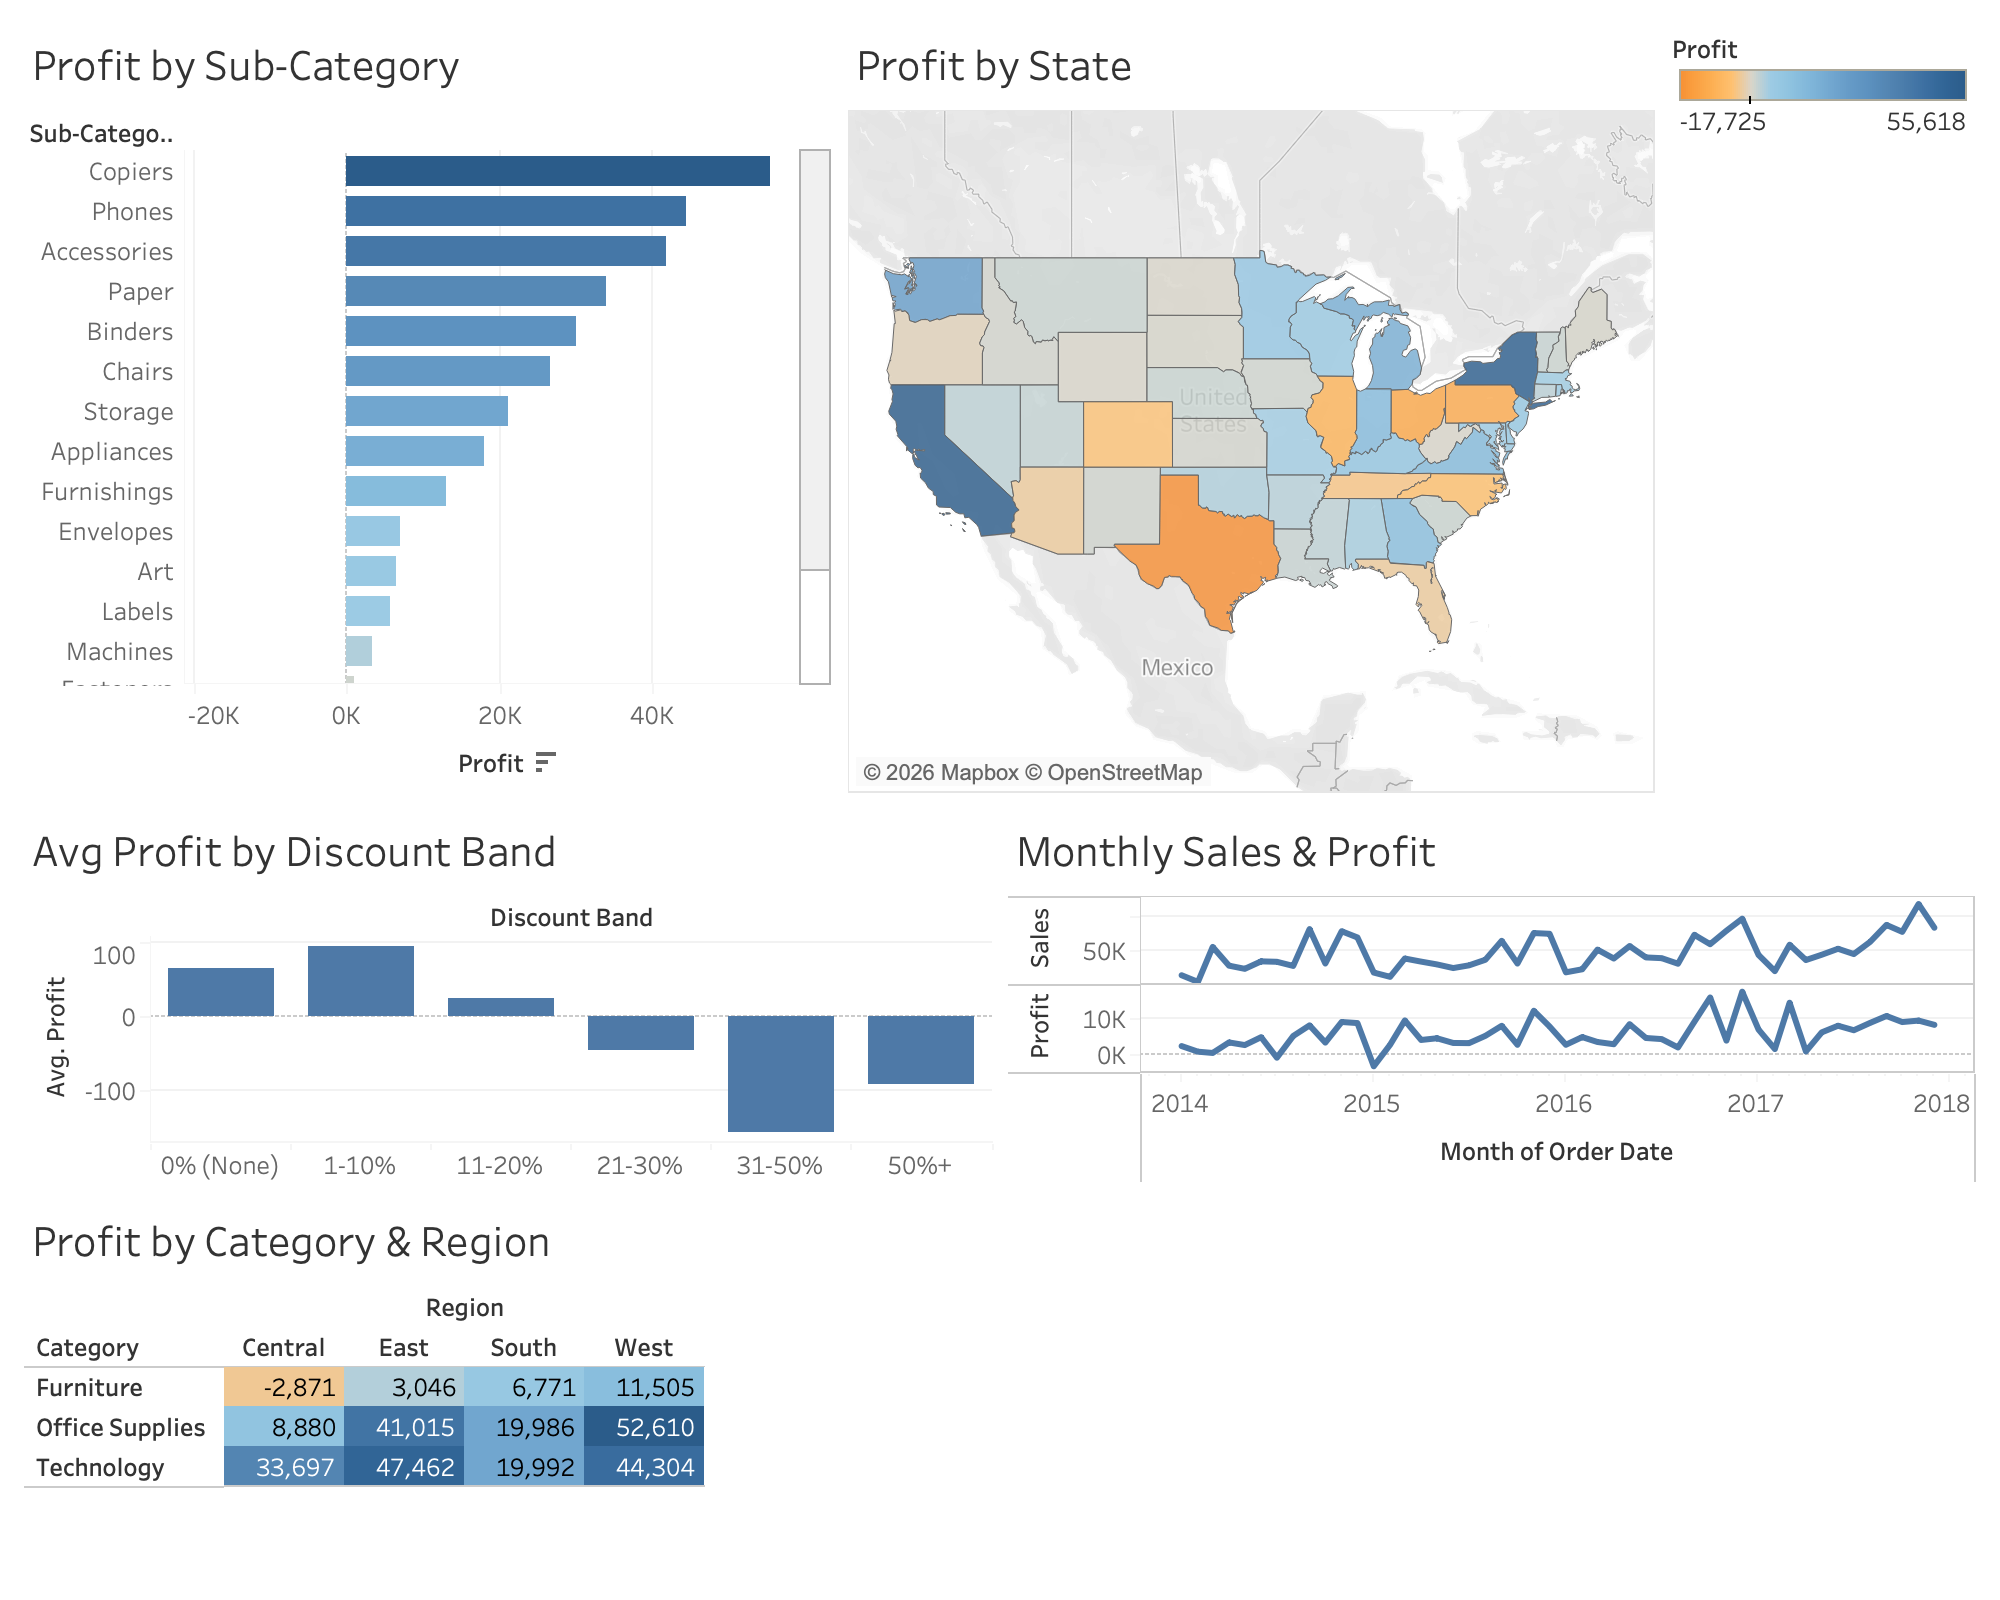

What the dashboard file says about the page in this screenshot:
{"tool":"tableau","page":{"name":"Dashboard 1","canvas":[1000,800],"ordinal":0},"visuals":[{"type":"worksheet","title":"Profit by Sub-Category","mark":"Automatic","rows":["Sub-Category"],"cols":["Profit"],"box":[8,8,412,392.8]},{"type":"worksheet","title":"Profit by State","mark":"Multipolygon","box":[420,8,412,392.8]},{"type":"legend","title":"Profit by Sub-Category","param":"[federated.0pghdz91tervvn1gfhjul0pkep5s].[sum:Profit:qk]","box":[832,8,160,65]},{"type":"worksheet","title":"Avg Profit by Discount Band","mark":"Automatic","rows":["Profit"],"cols":["Calculation_2423062068305920"],"box":[8,400.8,492,194.8]},{"type":"worksheet","title":"Monthly Sales & Profit","mark":"Automatic","rows":["Sales","Profit"],"cols":["Order Date"],"box":[500,400.8,492,194.8]},{"type":"worksheet","title":"Profit by Category & Region","mark":"Square","rows":["Category"],"cols":["Region"],"box":[8,595.6,984,196.4]}]}

Visuals, with their boxes in screenshot pixels (x1, y1, x2, y2), scaled from the page's 1000x800 canvas onto the 2000x1600 screenshot:
"Profit by Sub-Category" worksheet: (left=16, top=16, right=840, bottom=802)
"Profit by State" worksheet (Multipolygon marks): (left=840, top=16, right=1664, bottom=802)
"Profit by Sub-Category" legend: (left=1664, top=16, right=1984, bottom=146)
"Avg Profit by Discount Band" worksheet: (left=16, top=802, right=1000, bottom=1191)
"Monthly Sales & Profit" worksheet: (left=1000, top=802, right=1984, bottom=1191)
"Profit by Category & Region" worksheet (Square marks): (left=16, top=1191, right=1984, bottom=1584)
